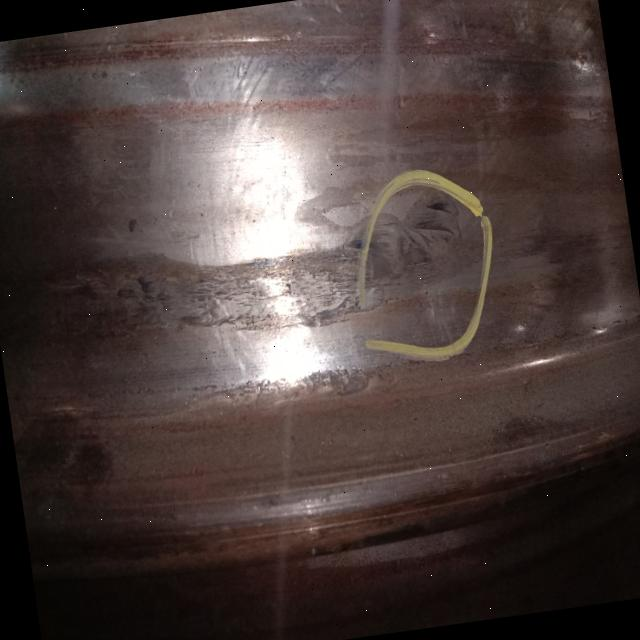flat: (82, 210, 359, 367), (389, 200, 468, 295)
